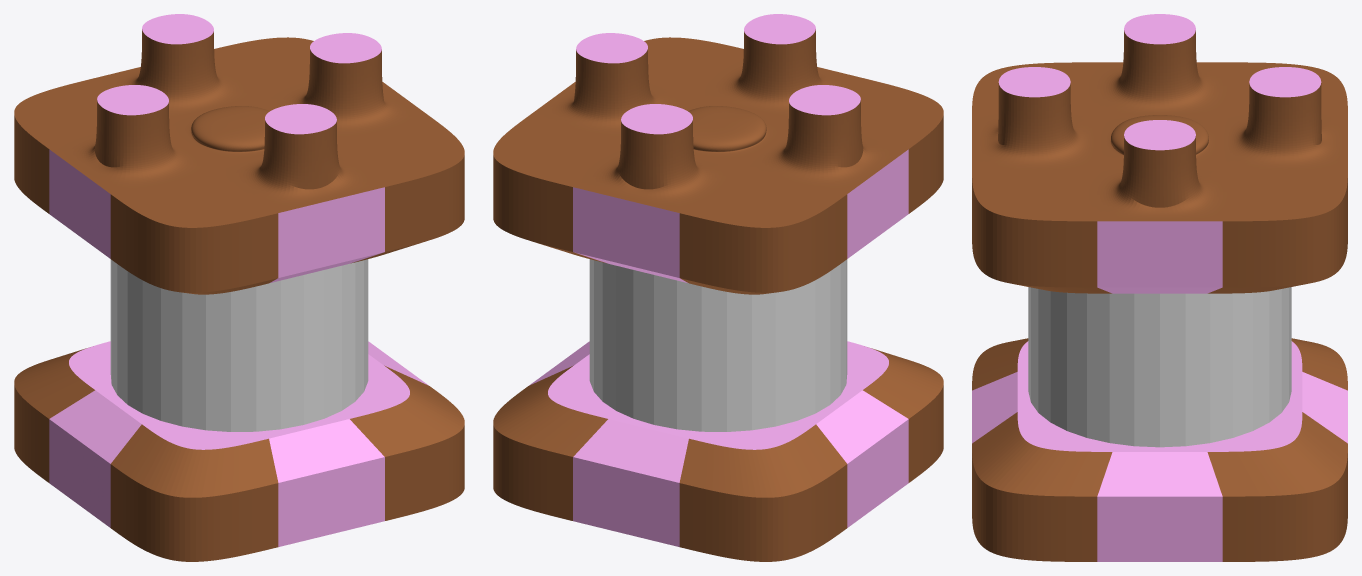
Rendered from Generador6.fbx.
3 renders of one model, left to right at view 1: azimuth 30°, elevation 25°; view 2: azimuth 150°, elevation 25°; view 3: azimuth 270°, elevation 25°, orthographic.
Parts seen in each view (by area): view 1: Bases, Vidrio; view 2: Bases, Vidrio; view 3: Bases, Vidrio.
Boxes of the visible parts, x1,y1,x2,y2 form: Bases: (14, 14, 464, 561); Vidrio: (110, 259, 368, 431); Bases: (493, 14, 943, 561); Vidrio: (589, 259, 847, 431); Bases: (972, 14, 1347, 561); Vidrio: (1028, 287, 1291, 447).
Bounding box in the file's own units: 200 × 235 × 200.
